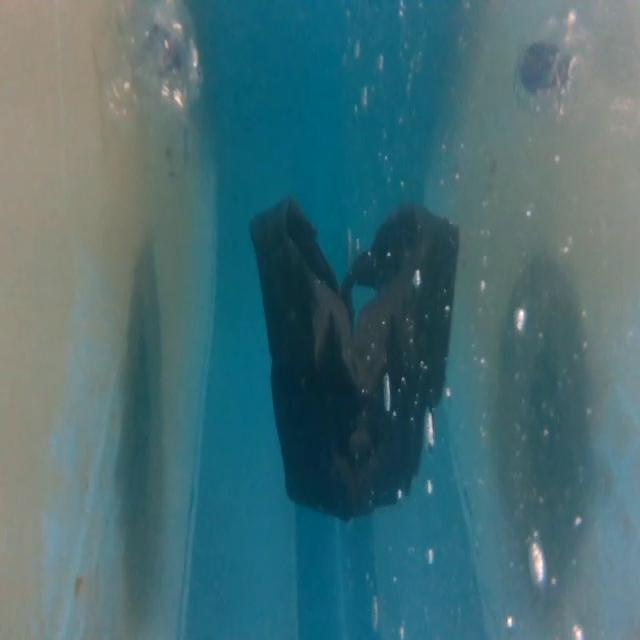plastic bags: (241, 190, 464, 530)
